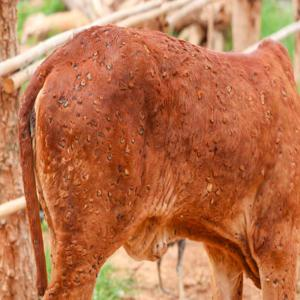lumpy skin diesease: (17, 23, 299, 299)
